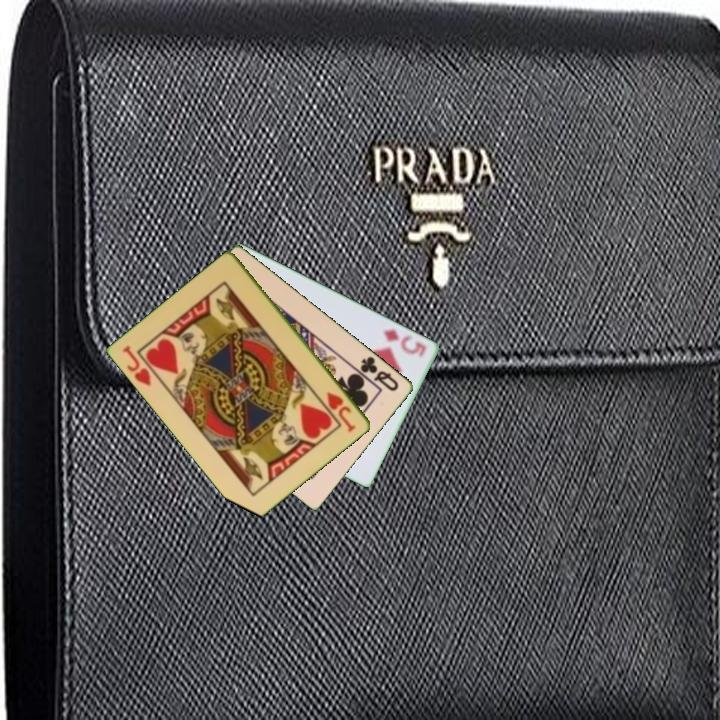5d: (380, 326, 429, 361)
Jh: (119, 342, 163, 389), (323, 388, 359, 435)
Qc: (357, 352, 402, 394)
